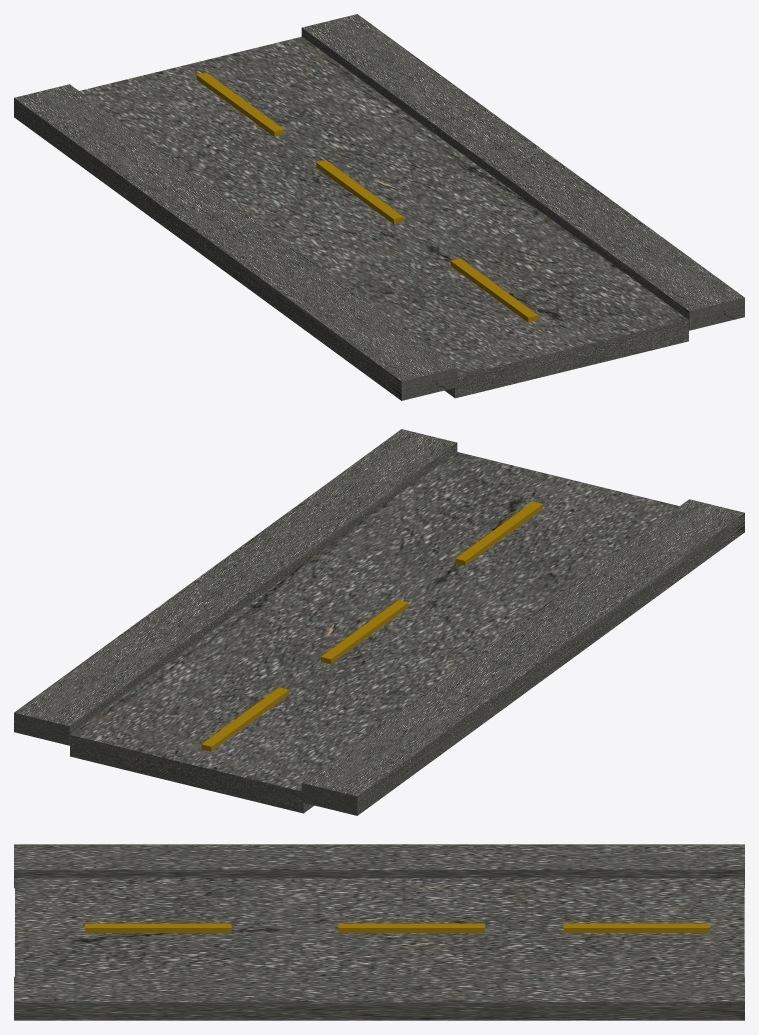
Rendered from runway.glb.
3 views of the same model, one above another, from view 1: azimuth 30°, elevation 25°; view 2: azimuth 150°, elevation 25°; view 3: azimuth 270°, elevation 25° (orthographic). The views are drawn at different scales.
Visible parts, largest first — view 1: MainRoad_0, Sade2_1, Cube.002_4, Cube_2, Cube.001_3; view 2: MainRoad_0, Sade2_1, Cube.002_4, Cube_2, Cube.001_3; view 3: MainRoad_0, Sade2_1, Cube.002_4, Cube_2, Cube.001_3.
Boxes of the visible parts, x1,y1,x2,y2 form: MainRoad_0: (79,36,688,398); Sade2_1: (14,14,744,400); Cube.002_4: (196,72,284,136); Cube_2: (450,258,538,322); Cube.001_3: (316,160,403,224); MainRoad_0: (70,452,679,813); Sade2_1: (14,429,744,815); Cube.002_4: (201,687,289,751); Cube_2: (455,501,542,565); Cube.001_3: (321,600,408,664); MainRoad_0: (15,878,744,976); Sade2_1: (14,844,744,1020); Cube.002_4: (563,923,710,932); Cube_2: (85,923,231,932); Cube.001_3: (338,923,484,932).
Size of the model in its own units: 7.44 by 0.6294 by 14.54.
3 materials, 2 textured.
